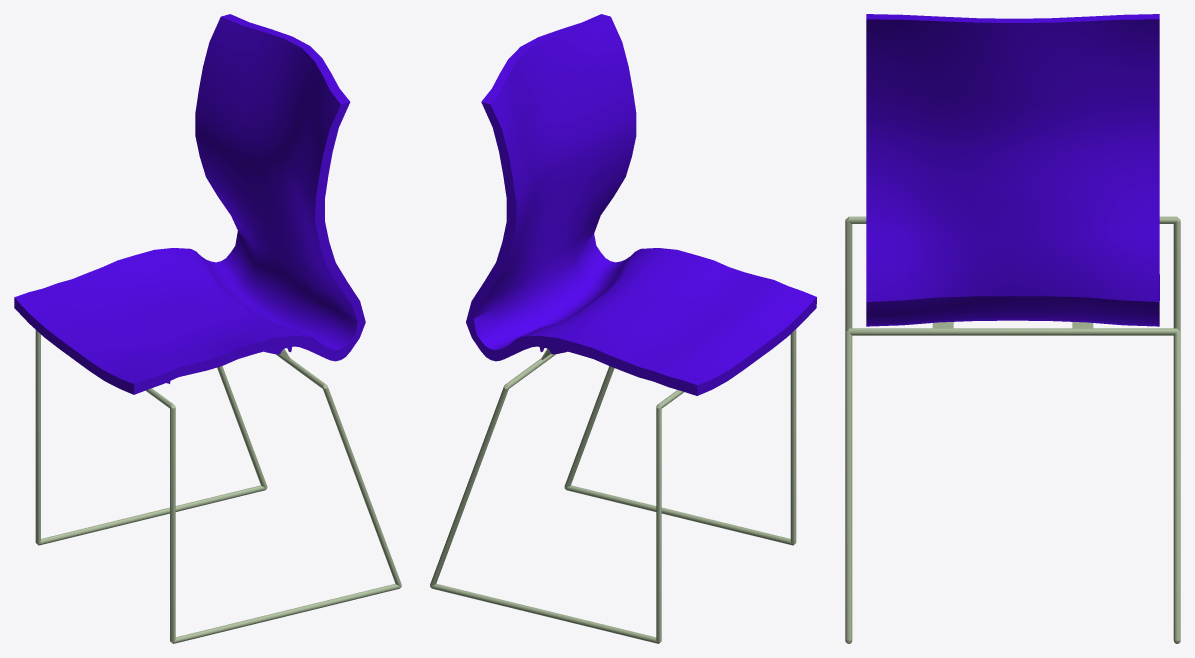
File: SillaPlastico_SofiaA_46483443.fbx
3 renders of one model, left to right at view 1: azimuth 30°, elevation 25°; view 2: azimuth 150°, elevation 25°; view 3: azimuth 270°, elevation 25°, orthographic. The views are drawn at different scales.
Visible parts, largest first — view 1: Silla; view 2: Silla; view 3: Silla.
Part boxes in pixels (<box>): Silla: <box>14,14,401,643</box>; Silla: <box>430,14,816,643</box>; Silla: <box>845,14,1180,643</box>.
Size of the model in its own units: 47 by 86 by 43.
Materials: 1 (1 with a texture image).
